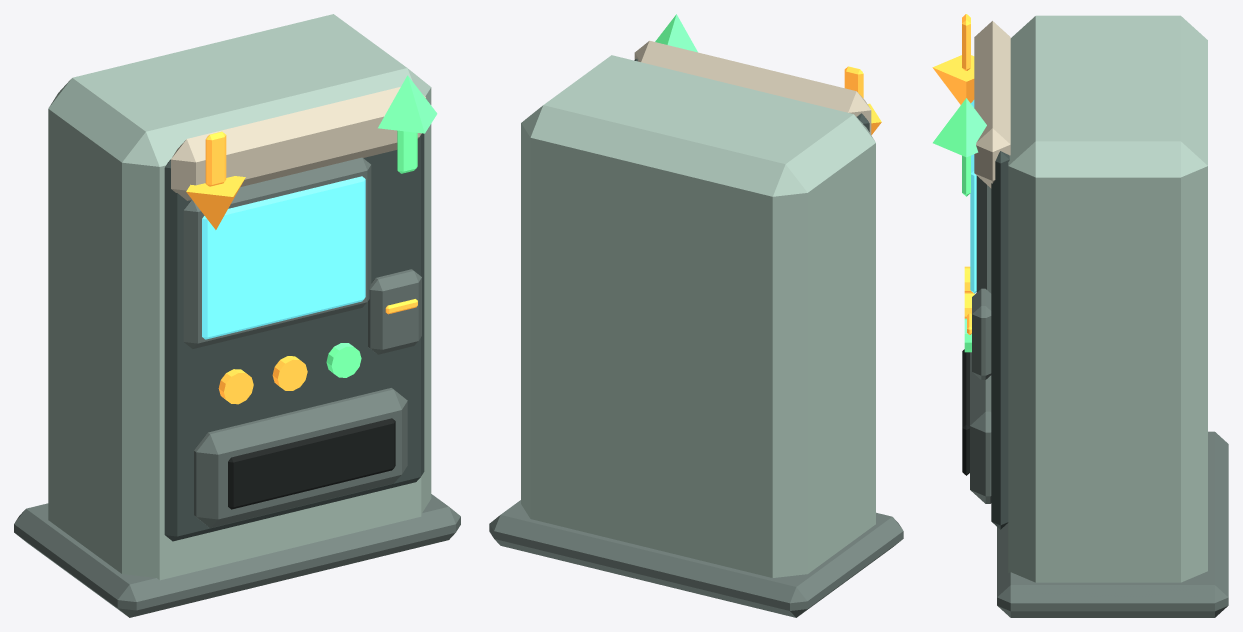
File: FTF_Trade_Terminal.glb
The picture shows the model from 3 angles, left to right: view 1: azimuth 30°, elevation 25°; view 2: azimuth 150°, elevation 25°; view 3: azimuth 270°, elevation 25°; orthographic projection. The views are drawn at different scales.
Parts seen in each view (by area): view 1: TradeTerminal_Body, TradeTerminal_FrontInset, TradeTerminal_Screen, TradeTerminal_Base, TradeTerminal_TopSign, TradeTerminal_TrayFrame, TradeTerminal_TrayOpening, TradeTerminal_ScreenFrame, TradeTerminal_CardReader, TradeTerminal_SellArrow_Head, TradeTerminal_BuyArrow_Head, TradeTerminal_BuyArrow_Shaft (+4 smaller); view 2: TradeTerminal_Body, TradeTerminal_Base, TradeTerminal_TopSign, TradeTerminal_SellArrow_Head; view 3: TradeTerminal_Body, TradeTerminal_Base, TradeTerminal_FrontInset, TradeTerminal_TopSign, TradeTerminal_TrayFrame, TradeTerminal_ScreenFrame, TradeTerminal_SellArrow_Head, TradeTerminal_CardReader, TradeTerminal_BuyArrow_Head, TradeTerminal_TrayOpening, TradeTerminal_Screen, TradeTerminal_BuyArrow_Shaft.
Part boxes in pixels (left/top/right/bottom): TradeTerminal_Body: left=48, top=14, right=431, bottom=580; TradeTerminal_FrontInset: left=164, top=133, right=424, bottom=541; TradeTerminal_Screen: left=202, top=176, right=365, bottom=339; TradeTerminal_Base: left=14, top=494, right=460, bottom=617; TradeTerminal_TopSign: left=171, top=87, right=426, bottom=200; TradeTerminal_TrayFrame: left=194, top=388, right=407, bottom=527; TradeTerminal_TrayOpening: left=228, top=418, right=395, bottom=509; TradeTerminal_ScreenFrame: left=183, top=157, right=371, bottom=348; TradeTerminal_CardReader: left=368, top=269, right=421, bottom=354; TradeTerminal_SellArrow_Head: left=378, top=75, right=437, bottom=133; TradeTerminal_BuyArrow_Head: left=186, top=176, right=245, bottom=229; TradeTerminal_BuyArrow_Shaft: left=205, top=131, right=226, bottom=186; TradeTerminal_Body: left=521, top=55, right=875, bottom=577; TradeTerminal_Base: left=489, top=500, right=903, bottom=617; TradeTerminal_TopSign: left=634, top=40, right=871, bottom=134; TradeTerminal_SellArrow_Head: left=655, top=14, right=697, bottom=52; TradeTerminal_Body: left=1008, top=15, right=1207, bottom=582; TradeTerminal_Base: left=997, top=431, right=1228, bottom=617; TradeTerminal_FrontInset: left=991, top=151, right=1009, bottom=529; TradeTerminal_TopSign: left=974, top=21, right=1010, bottom=188; TradeTerminal_TrayFrame: left=970, top=352, right=991, bottom=503; TradeTerminal_ScreenFrame: left=976, top=176, right=991, bottom=293; TradeTerminal_SellArrow_Head: left=933, top=98, right=986, bottom=157; TradeTerminal_CardReader: left=972, top=288, right=991, bottom=379; TradeTerminal_BuyArrow_Head: left=932, top=55, right=974, bottom=104; TradeTerminal_TrayOpening: left=962, top=349, right=969, bottom=475; TradeTerminal_Screen: left=970, top=100, right=976, bottom=293; TradeTerminal_BuyArrow_Shaft: left=962, top=14, right=970, bottom=70.
Bounding box in the file's own units: 1.72 × 2.38 × 1.31.
